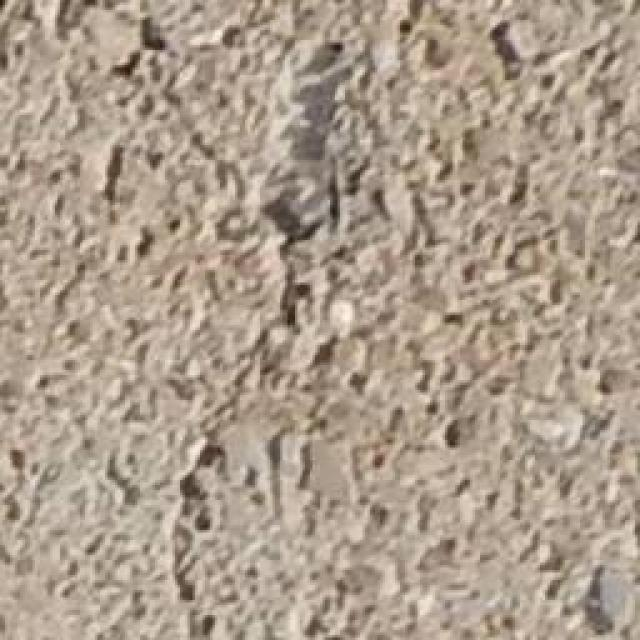concrete-crack: (165, 26, 381, 640)
